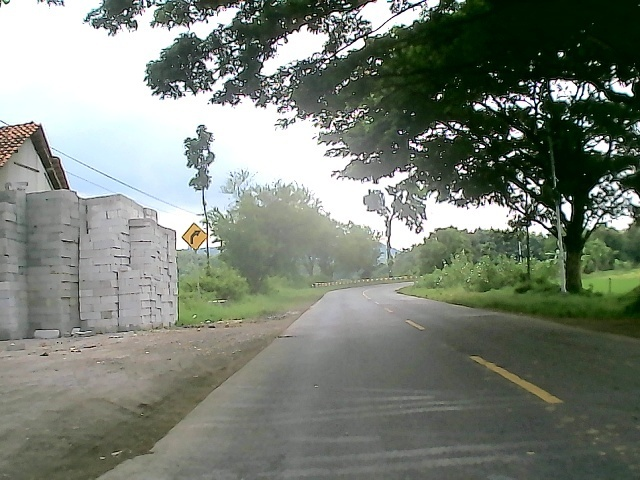Tikungan ke kanan: (177, 221, 212, 252)
